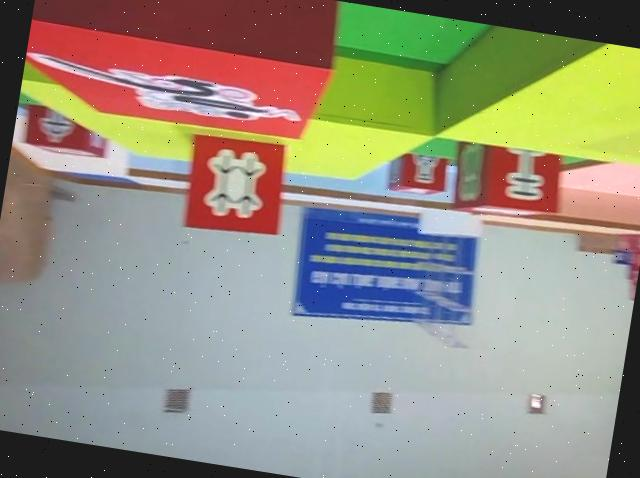R1: (17, 0, 342, 152)
R2 Fake: (449, 129, 567, 231), (19, 99, 113, 164)
R2 Real: (177, 127, 297, 245), (388, 148, 451, 201)
